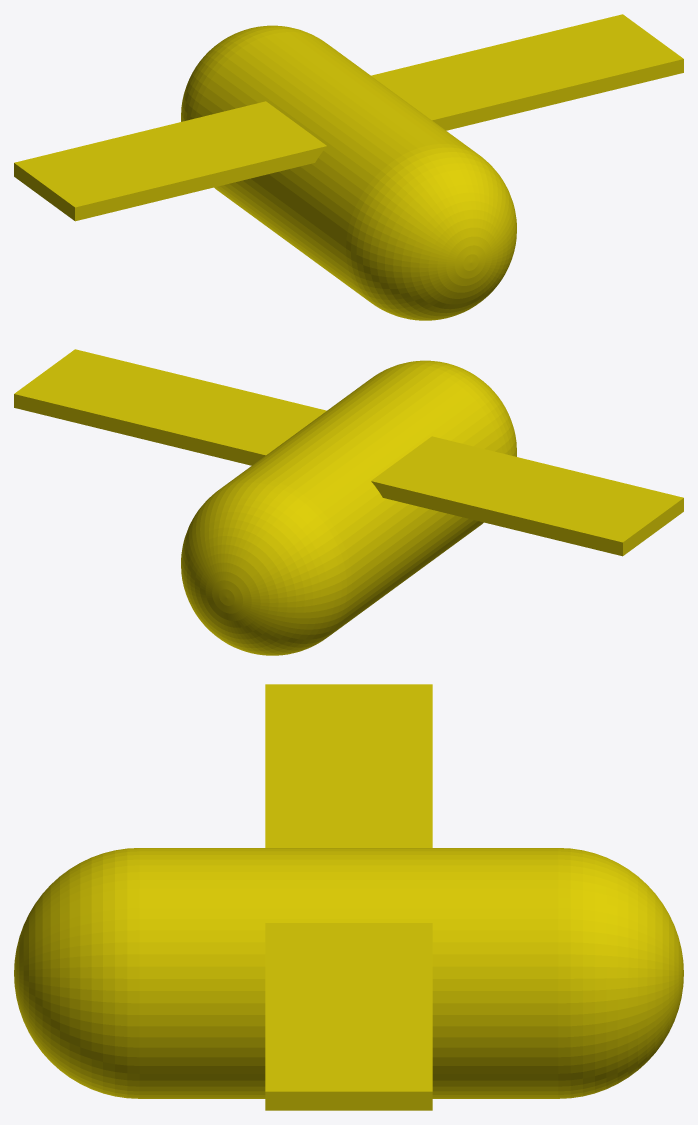
File: creature_9.glb
3 views of the same model, one above another, from view 1: azimuth 30°, elevation 25°; view 2: azimuth 150°, elevation 25°; view 3: azimuth 270°, elevation 25° (orthographic). The views are drawn at different scales.
Visible parts, largest first — view 1: geometry_0; view 2: geometry_0; view 3: geometry_0.
Boxes of the visible parts, x1=… form: geometry_0: x1=14, y1=14, x2=683, y2=320; geometry_0: x1=14, y1=349, x2=683, y2=655; geometry_0: x1=14, y1=684, x2=683, y2=1110.
Bounding box in the file's own units: 4.6 × 1.2 × 3.2.
